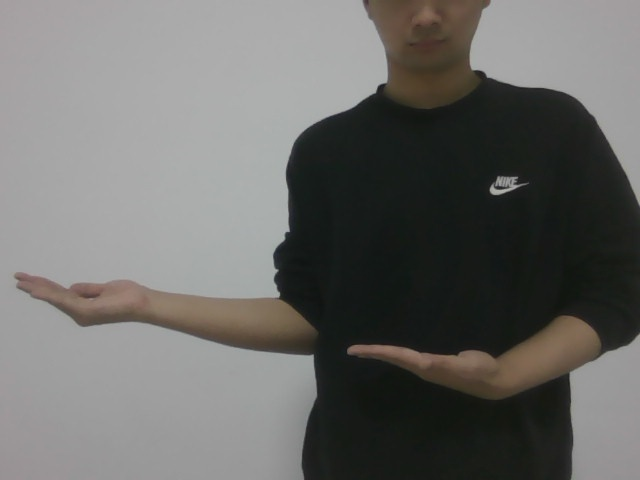please: (3, 250, 546, 416)
